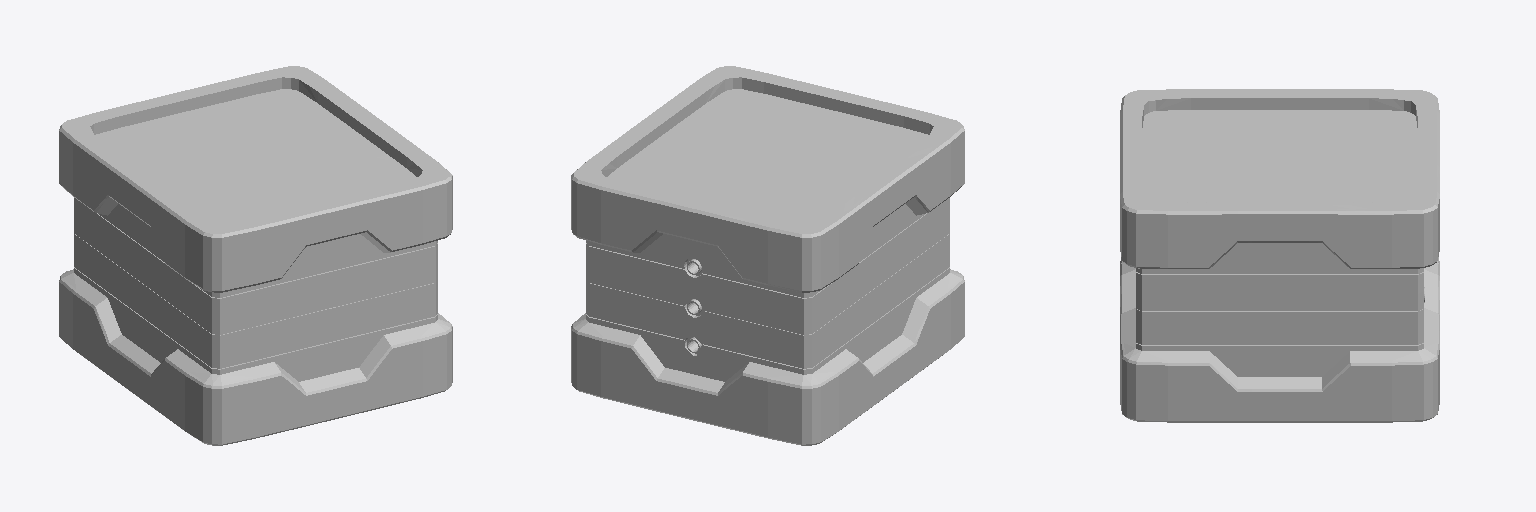
File: power_supply_sci_fi_box.obj
The picture shows the model from 3 angles: view 1: azimuth 30°, elevation 25°; view 2: azimuth 150°, elevation 25°; view 3: azimuth 270°, elevation 25°; orthographic projection.
Visible parts, largest first — view 1: PSUV_QIXL:_polySurface25; view 2: PSUV_QIXL:_polySurface25; view 3: PSUV_QIXL:_polySurface25.
Part boxes in pixels (x1,y1,x2,y2): PSUV_QIXL:_polySurface25: (59, 66, 452, 445); PSUV_QIXL:_polySurface25: (571, 66, 964, 445); PSUV_QIXL:_polySurface25: (1120, 89, 1439, 422).
Bounding box in the file's own units: 9.52 × 7.59 × 10.41.